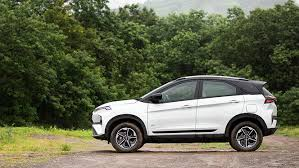Tata Nexon: (91, 75, 277, 153)
